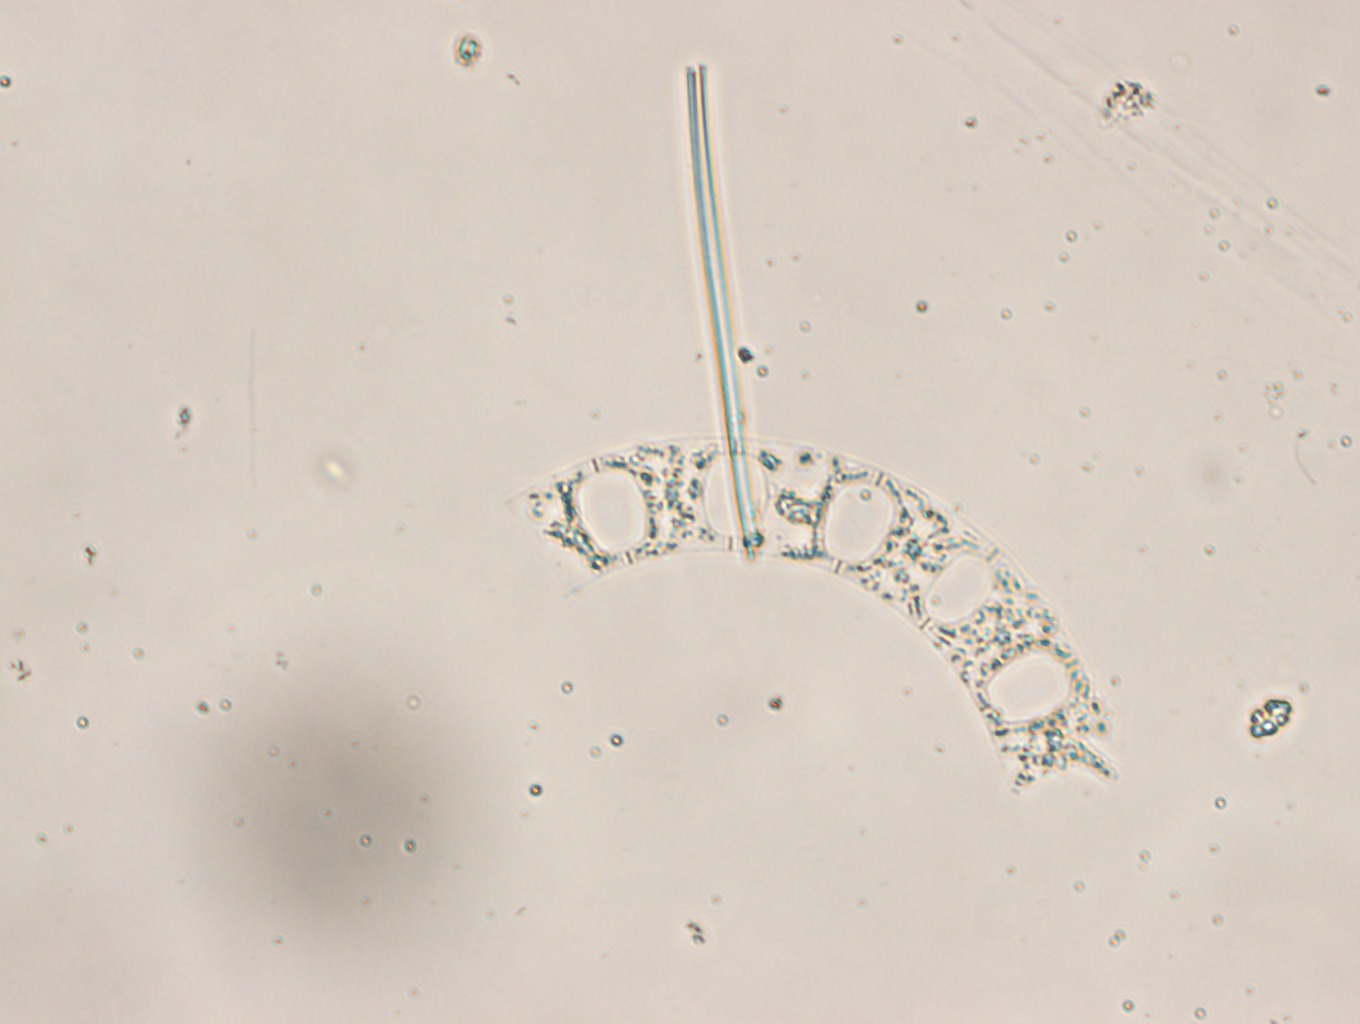eucampia: (509, 433, 1120, 801)
